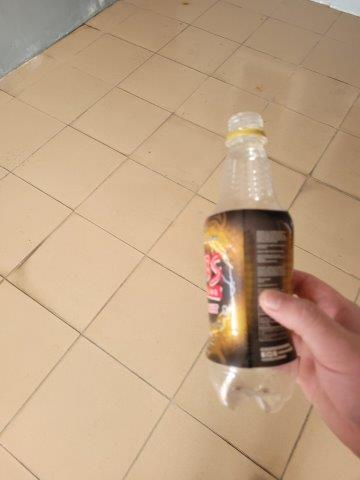botolplastik: (205, 113, 300, 411)
